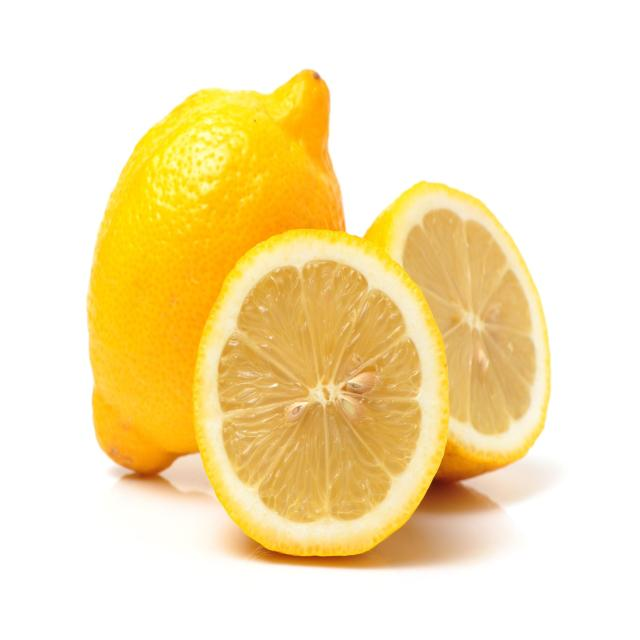lemon: (188, 221, 456, 564)
